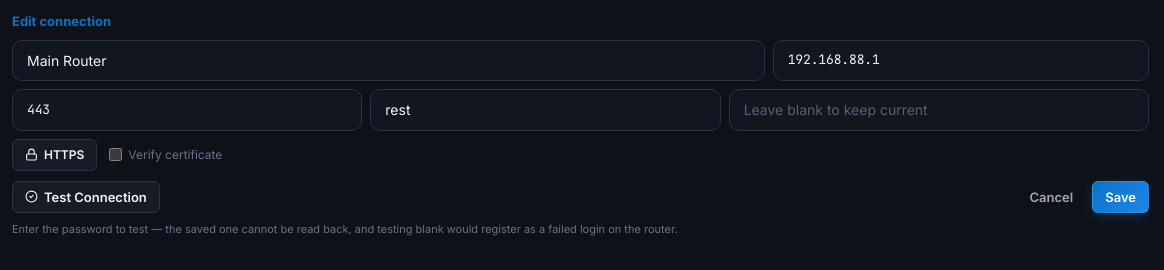
Test: testing the connection › offers a failed probe's own suggestion as a one-click correction
Type "secret" into the password field with placeholder "Leave blank to keep current" at point(939, 110), box [729,89,1149,131]
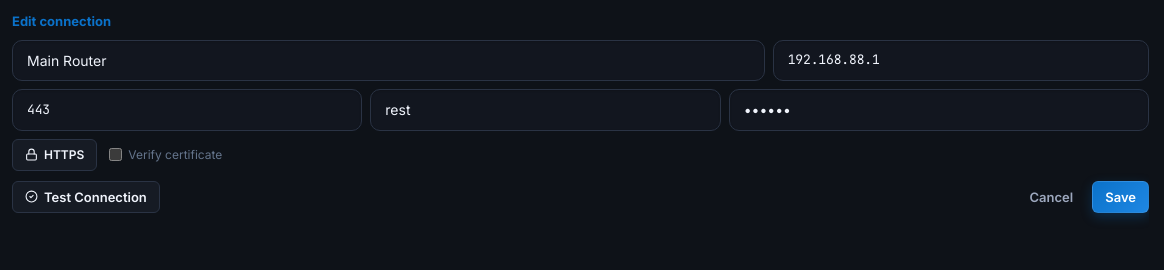
Click the button "Test Connection" at point(86, 197), box [12,181,160,213]
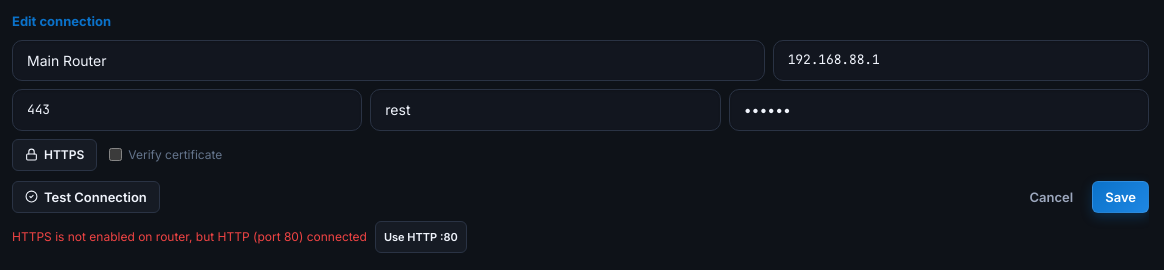
Click the button "Use HTTP :80" at point(421, 237), box [375,221,467,253]
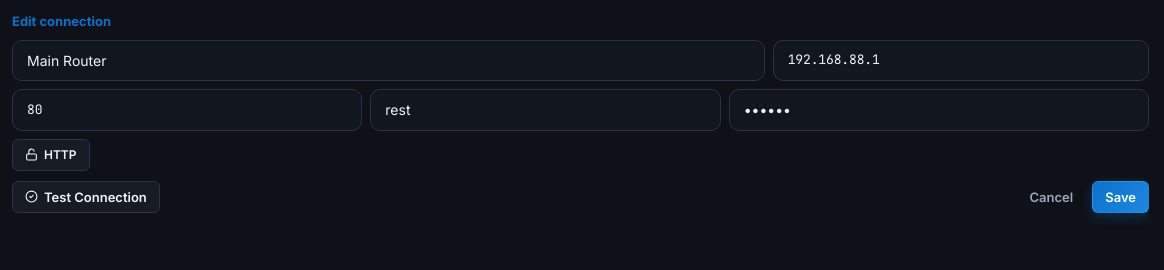
Expected: the button "HTTP" is shown, [12,139,90,171]
Now the number field showing "80" is shown, box [12,89,362,131]
